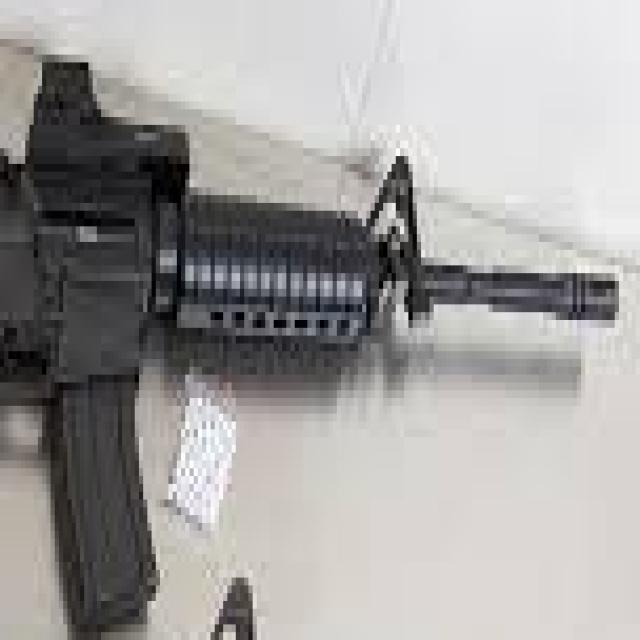Guns: (0, 31, 615, 617), (0, 609, 472, 640)
